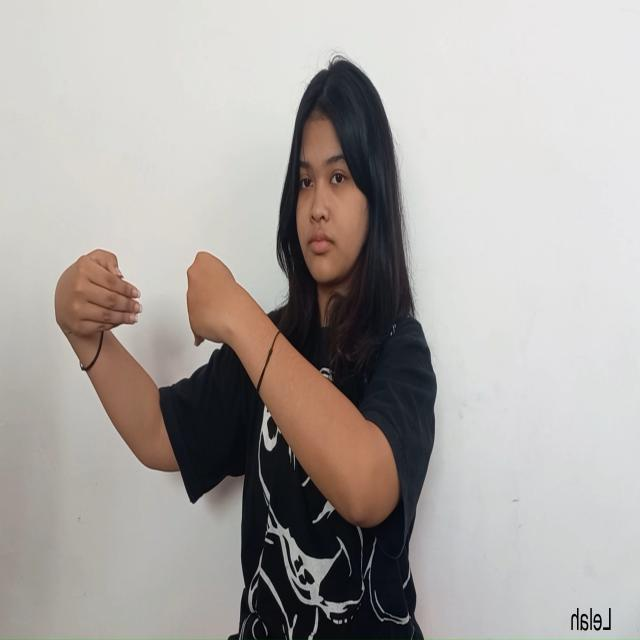Lelah -BISINDO-: (52, 246, 238, 351)
